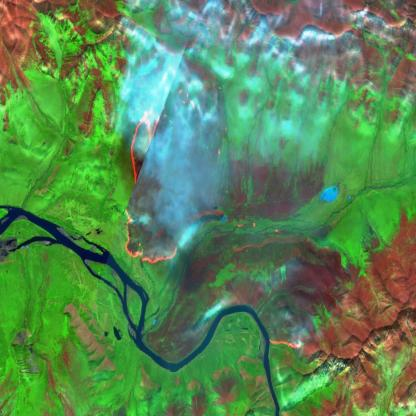fire: (124, 64, 202, 267), (265, 324, 306, 360)
